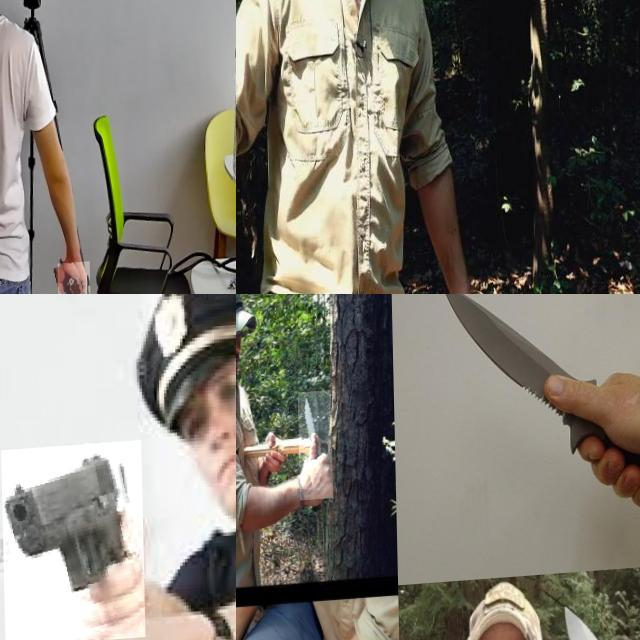-: (436, 294, 640, 524), (297, 394, 332, 504), (236, 192, 276, 287)
gun-knife-thesis - v11 Yolov5 augmented: (0, 444, 143, 640), (55, 266, 88, 294)
